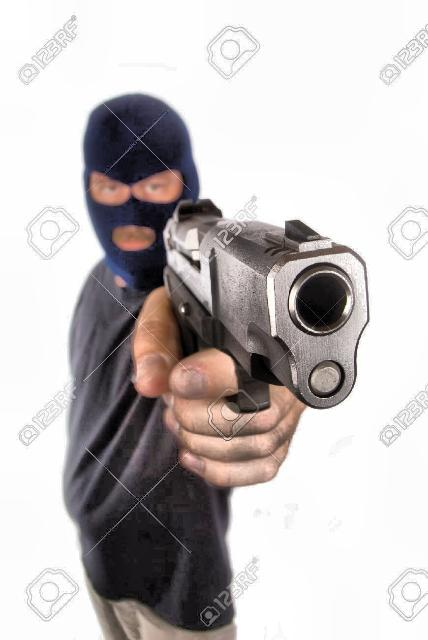pistol: (147, 182, 371, 420)
